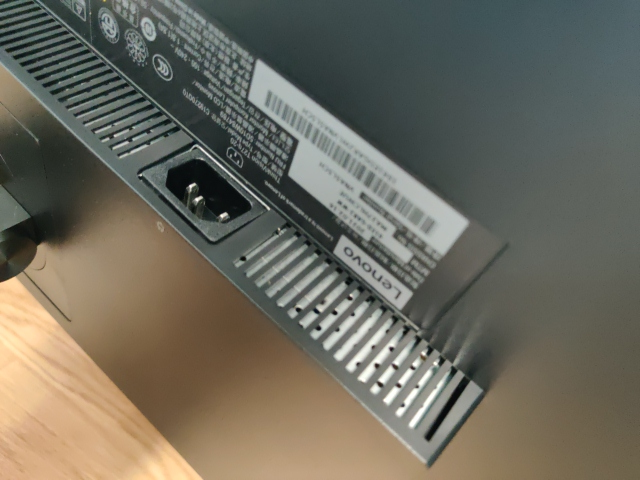IEC-Power: (164, 158, 254, 224)
